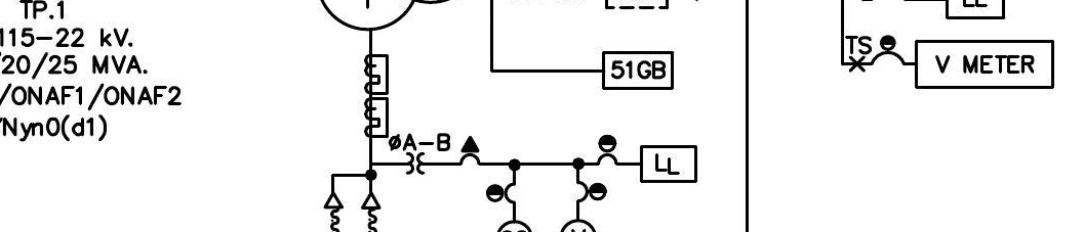LL: (639, 145, 698, 183)
terminator_double: (323, 173, 382, 210)
v_m_digital: (913, 39, 1055, 90)
